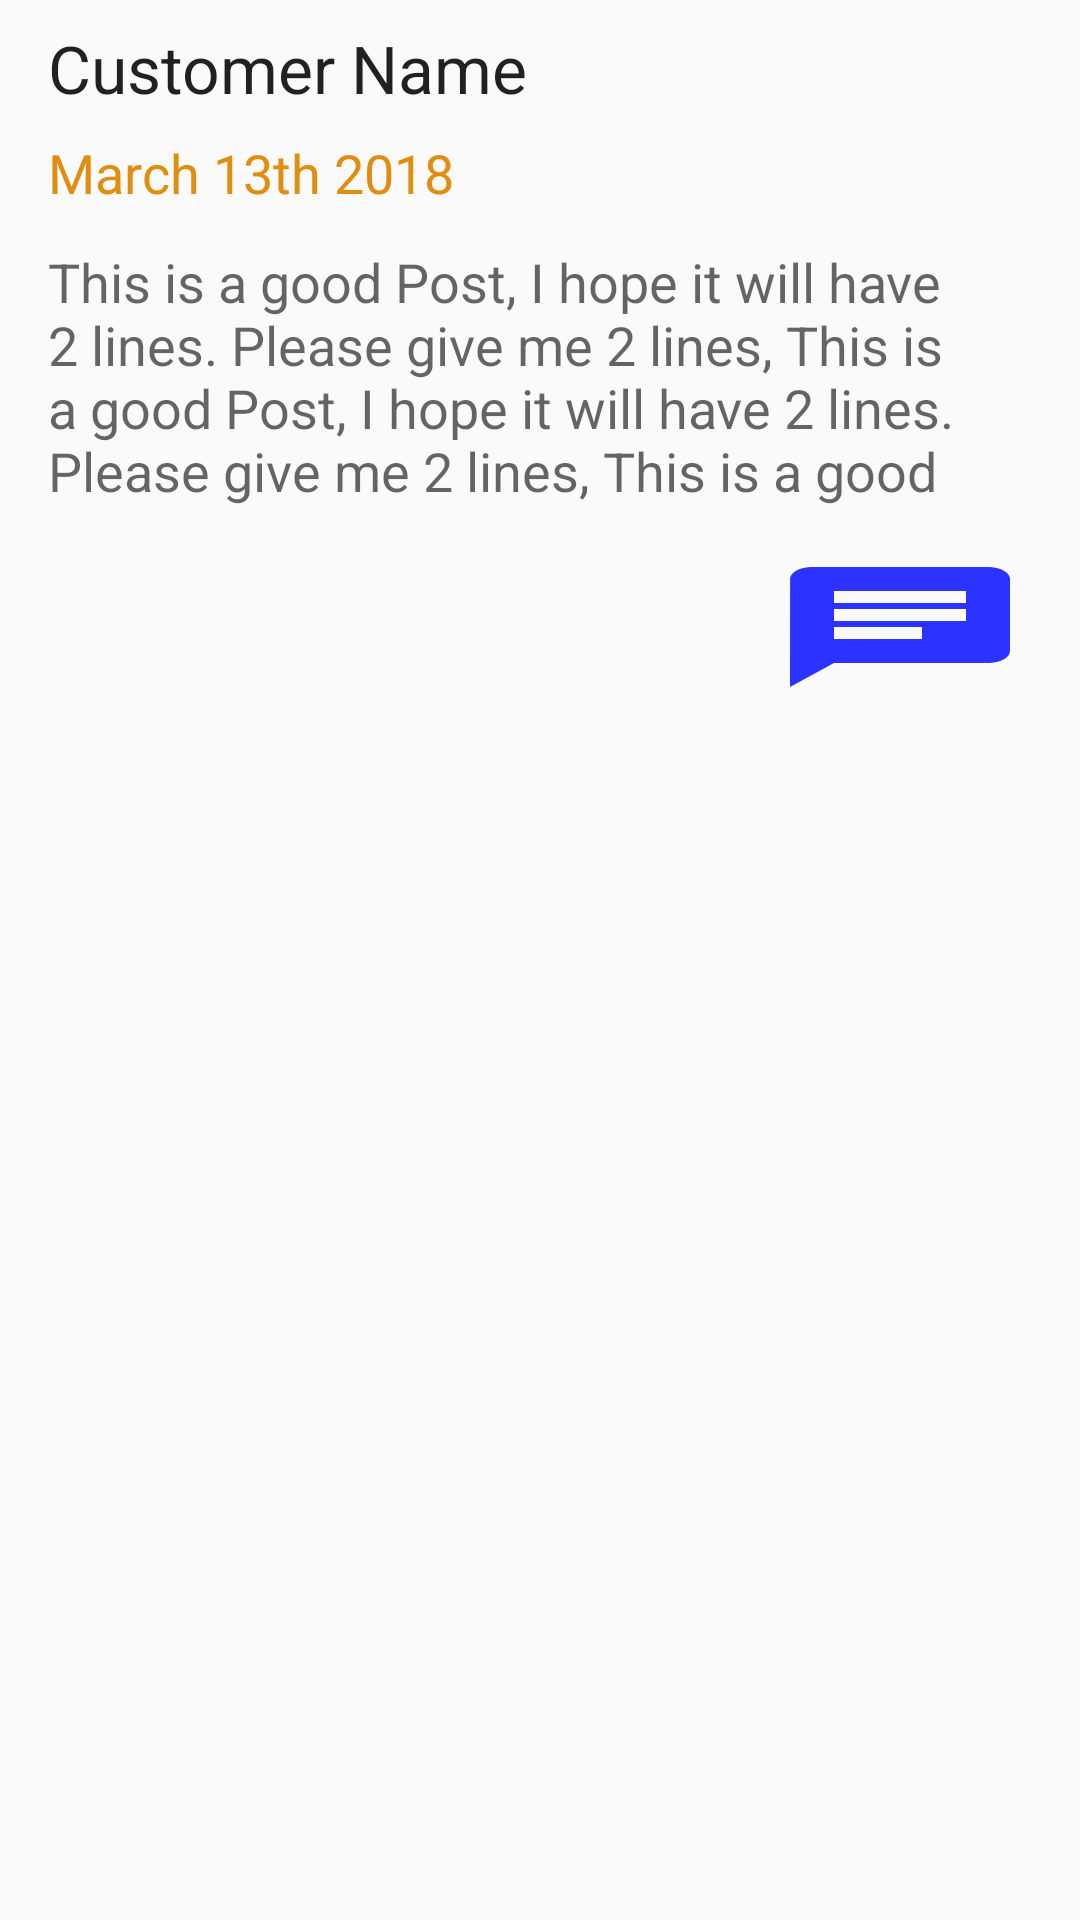

Icons on this 1080 × 1920 Android screen, each with its box as (x1, y1, x2, y2):
report chat: (790, 567, 1010, 687)
